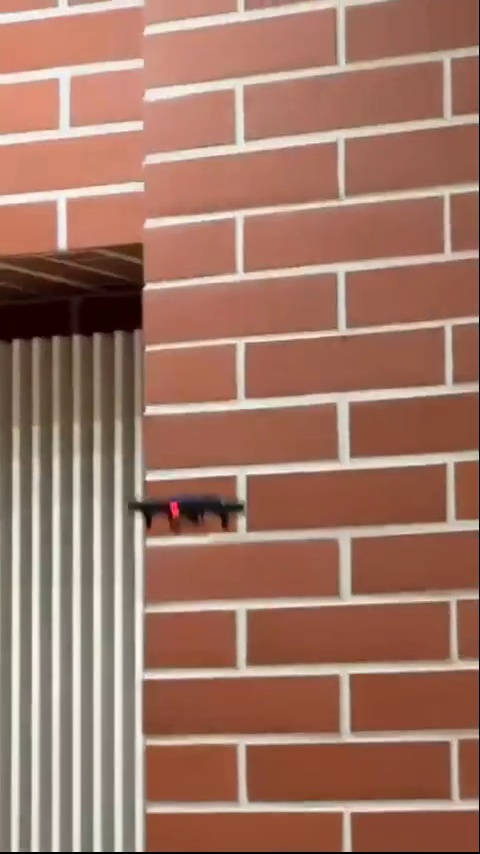drone: (124, 492, 251, 526)
